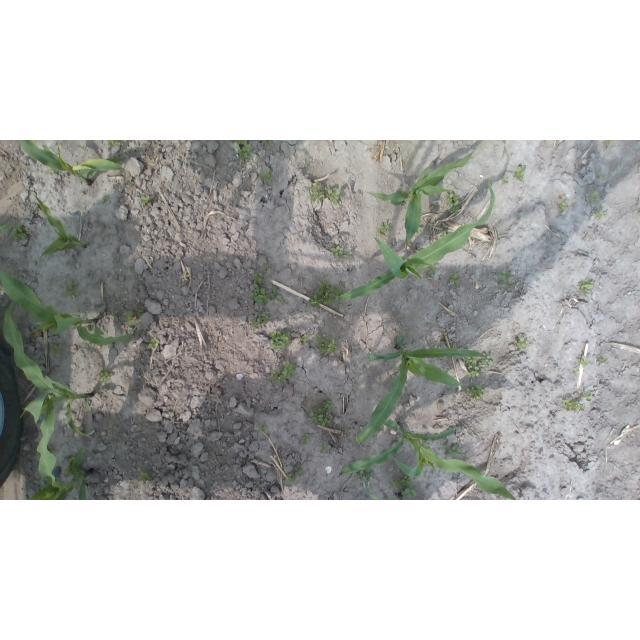Maize: (341, 182, 495, 298), (354, 334, 490, 449), (338, 418, 522, 500), (368, 140, 508, 245), (5, 302, 95, 438), (1, 269, 136, 345), (35, 398, 93, 500), (16, 141, 133, 188), (30, 194, 84, 259), (365, 484, 404, 500)
Weeds: (306, 280, 346, 309), (463, 351, 493, 380), (390, 473, 419, 499), (248, 272, 271, 304), (0, 221, 32, 243), (63, 456, 85, 478), (316, 334, 337, 357), (62, 277, 82, 300), (309, 408, 332, 428), (250, 310, 270, 332), (231, 141, 254, 160), (446, 189, 462, 215), (271, 331, 292, 350), (465, 383, 487, 400), (561, 396, 584, 412), (308, 181, 324, 203), (324, 187, 341, 206), (577, 278, 594, 296), (445, 443, 464, 459), (281, 361, 297, 379), (49, 339, 64, 358), (357, 467, 376, 482), (585, 191, 602, 206), (376, 222, 392, 237), (513, 166, 527, 183), (270, 367, 283, 385), (270, 284, 282, 303), (260, 169, 275, 184), (329, 246, 343, 262), (427, 261, 440, 278), (515, 337, 529, 352), (576, 355, 591, 369), (124, 311, 136, 328), (555, 197, 569, 211), (498, 271, 511, 285), (137, 470, 152, 482), (591, 208, 607, 219), (140, 195, 153, 208), (299, 333, 312, 346), (286, 473, 299, 485), (598, 354, 609, 366), (100, 370, 111, 382), (148, 339, 160, 349), (112, 156, 125, 165), (448, 273, 458, 284), (101, 194, 111, 205), (318, 444, 328, 455), (582, 392, 594, 401), (106, 141, 121, 148), (572, 367, 581, 378), (45, 167, 54, 178), (301, 434, 310, 445), (259, 422, 267, 434), (602, 141, 615, 148), (414, 226, 423, 236), (298, 465, 307, 475), (323, 401, 333, 410), (47, 445, 55, 454), (128, 178, 135, 188), (500, 178, 508, 185), (135, 309, 144, 315), (261, 140, 273, 144), (346, 250, 352, 258), (71, 314, 80, 319), (126, 264, 132, 271), (262, 263, 269, 269), (598, 172, 603, 178), (442, 231, 446, 236)
